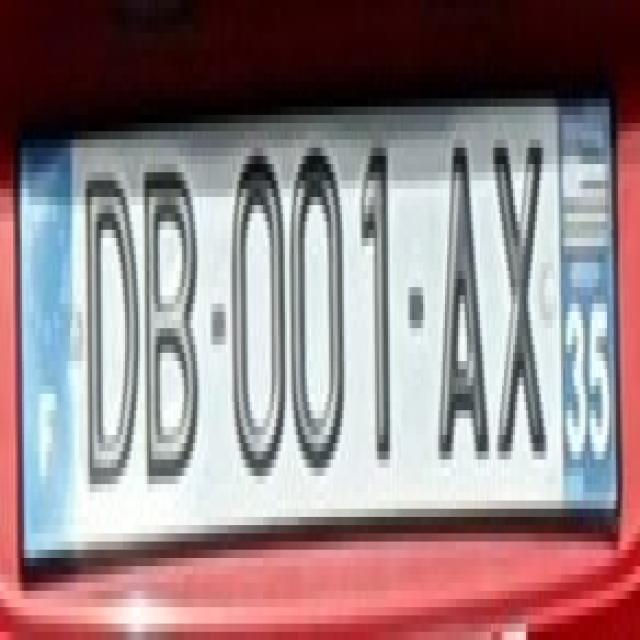EU: (19, 98, 616, 559)
France: (17, 140, 79, 566)
